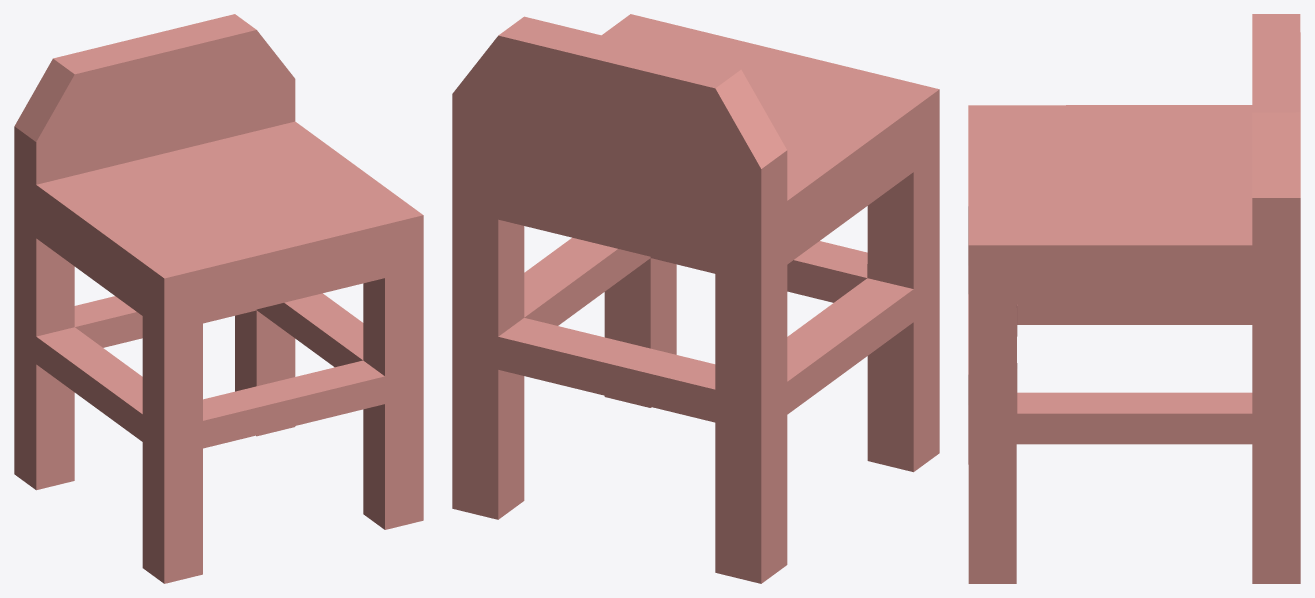
File: Seat_Pink_FBX.fbx
The picture shows the model from 3 angles, left to right: view 1: azimuth 30°, elevation 25°; view 2: azimuth 150°, elevation 25°; view 3: azimuth 270°, elevation 25°; orthographic projection. The views are drawn at different scales.
Visible parts, largest first — view 1: Chair 2; view 2: Chair 2; view 3: Chair 2.
Boxes of the visible parts, <box> form: Chair 2: <box>14,14,423,583</box>; Chair 2: <box>452,14,939,583</box>; Chair 2: <box>968,14,1300,583</box>.
Size of the model in its own units: 55.01 by 82.36 by 55.06.
